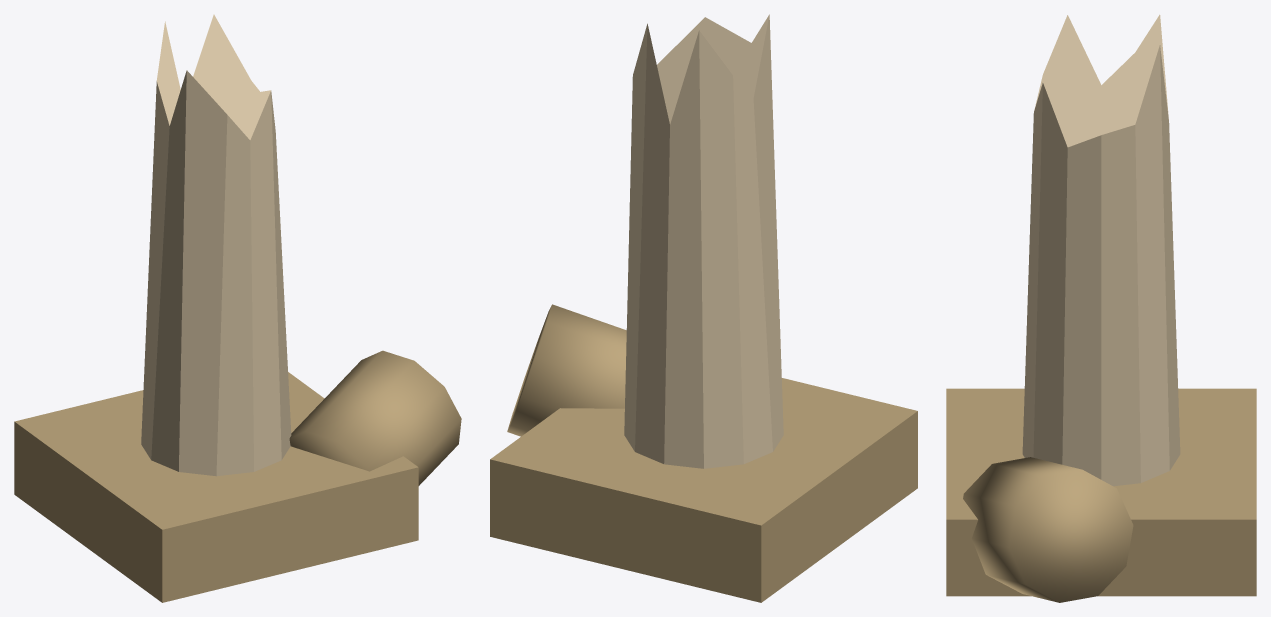
Rendered from hd_column_broken.gltf.
3 renders of one model, left to right at view 1: azimuth 30°, elevation 25°; view 2: azimuth 150°, elevation 25°; view 3: azimuth 270°, elevation 25°, orthographic. The views are drawn at different scales.
Visible parts, largest first — view 1: shaft, plinth, drum; view 2: shaft, plinth, drum; view 3: shaft, plinth, drum.
Boxes of the visible parts, x1,y1,x2,y2 form: shaft: (141,14,291,476); plinth: (14,372,418,602); drum: (289,350,461,485); shaft: (624,14,783,468); plinth: (490,378,917,602); drum: (507,304,626,436); shaft: (1022,14,1180,486); plinth: (946,388,1256,596); drum: (963,457,1133,602).
Bounding box in the file's own units: 1.43 × 2.01 × 1.1.
